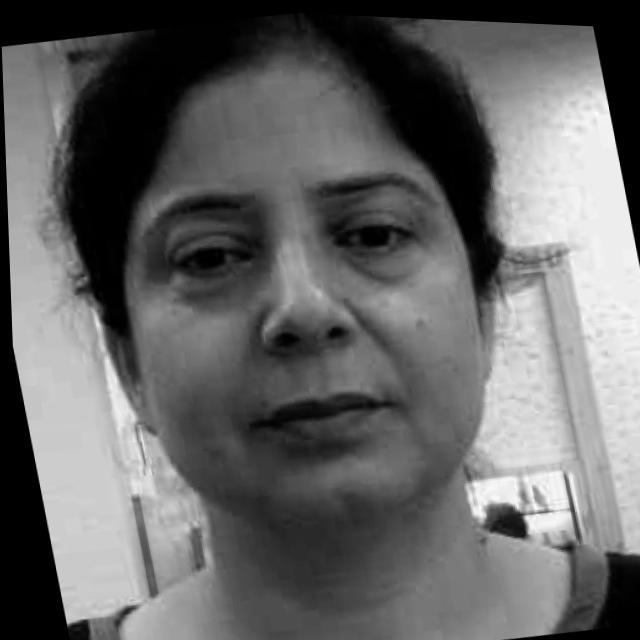Puffy Eyes - v3 Dark Circle: (338, 243, 423, 282)
